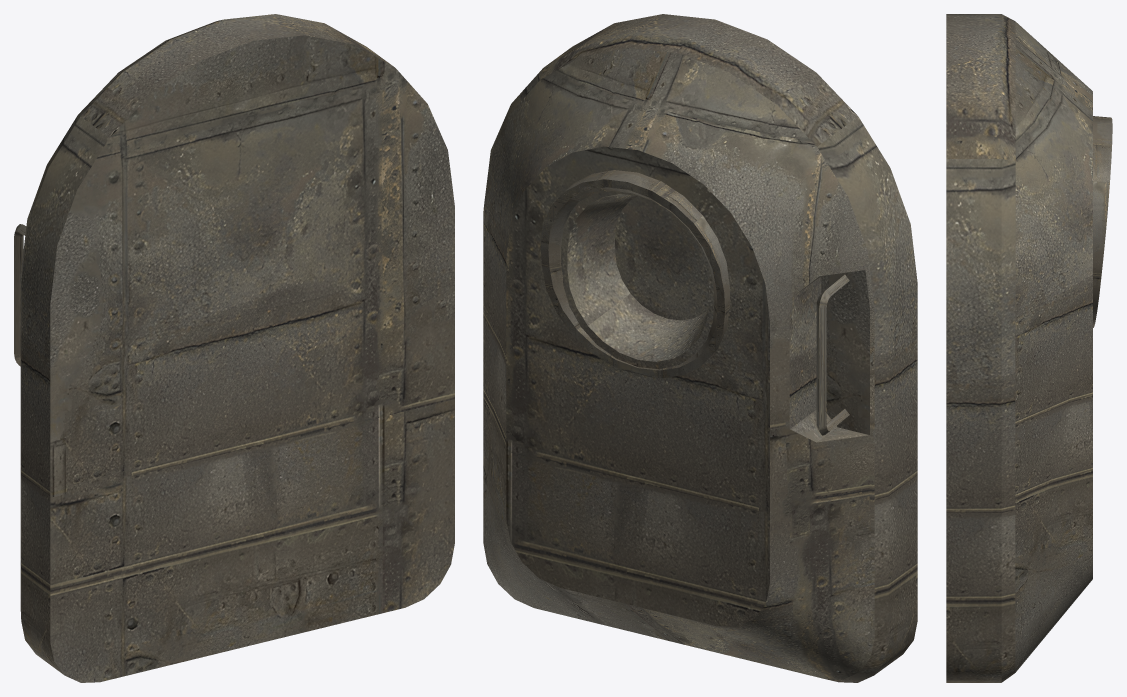
The model's file is CouloirTouffu_Block_05.fbx.
3 renders of one model, left to right at view 1: azimuth 30°, elevation 25°; view 2: azimuth 150°, elevation 25°; view 3: azimuth 270°, elevation 25°, orthographic. The views are drawn at different scales.
Visible parts, largest first — view 1: CouloirTouffu_Block_05; view 2: CouloirTouffu_Block_05; view 3: CouloirTouffu_Block_05.
Boxes of the visible parts, box(x1,y1,x2,y2) form: CouloirTouffu_Block_05: box(14, 14, 454, 682); CouloirTouffu_Block_05: box(483, 14, 917, 682); CouloirTouffu_Block_05: box(946, 14, 1112, 682).
Bounding box in the file's own units: 198 × 282 × 74.11.
